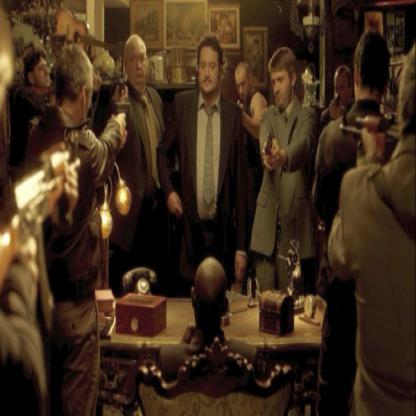Guns: (336, 110, 387, 151), (110, 96, 133, 145), (262, 128, 277, 168), (116, 71, 129, 94), (330, 92, 342, 112)
